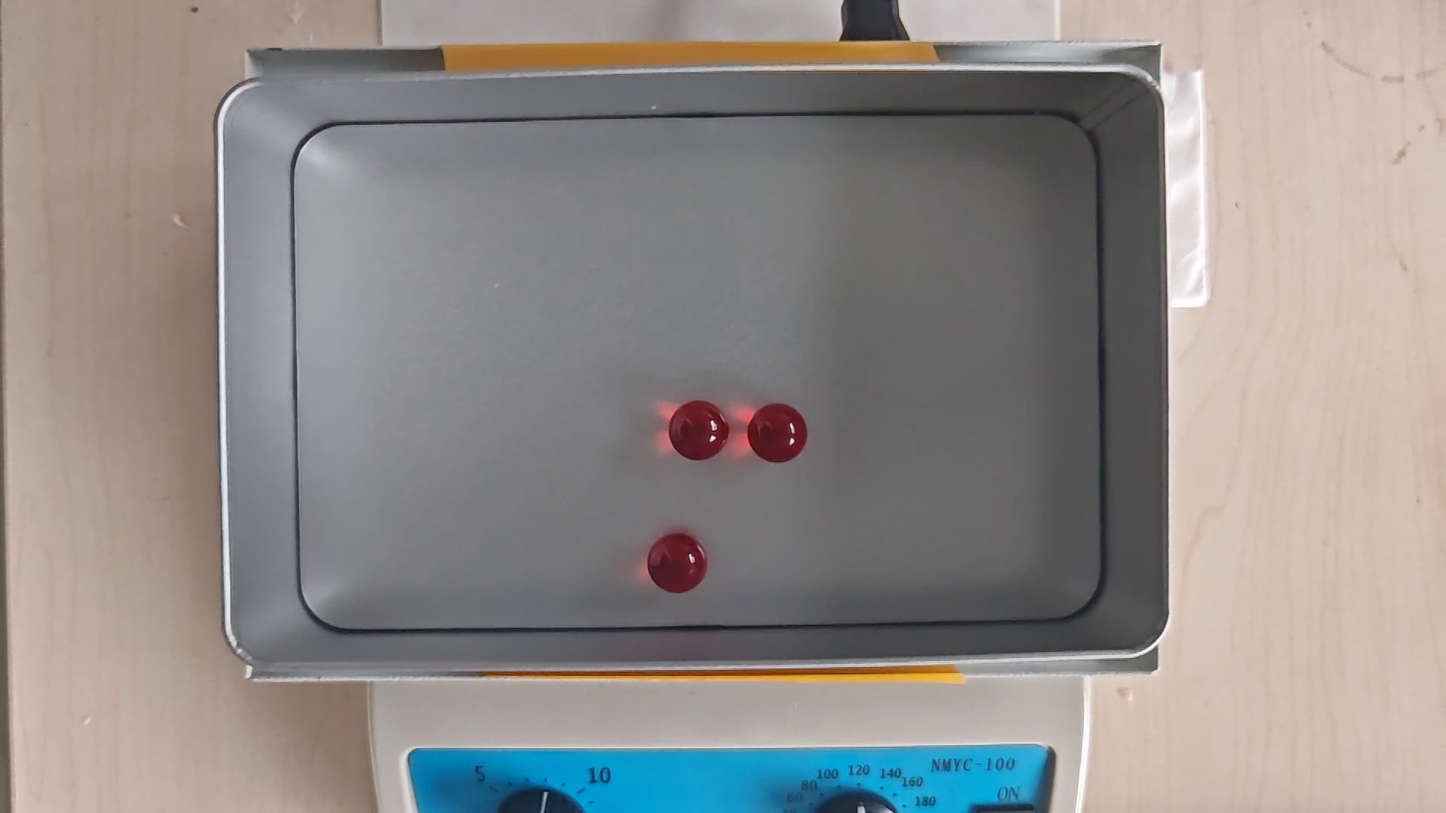ball: (667, 399, 729, 461), (646, 531, 707, 594), (746, 403, 810, 463)
container: (292, 117, 1104, 626)
